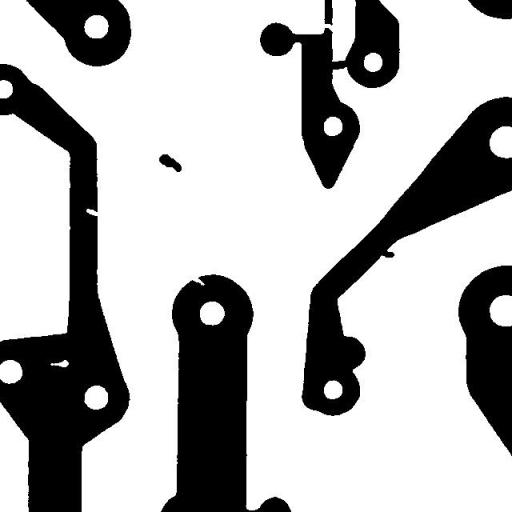copper: (151, 146, 189, 180)
mousebite: (184, 264, 212, 293), (78, 201, 106, 223)
open: (313, 16, 342, 39)
pin-hole: (42, 352, 76, 374)
short: (322, 53, 358, 77)
spur: (371, 242, 402, 264)
